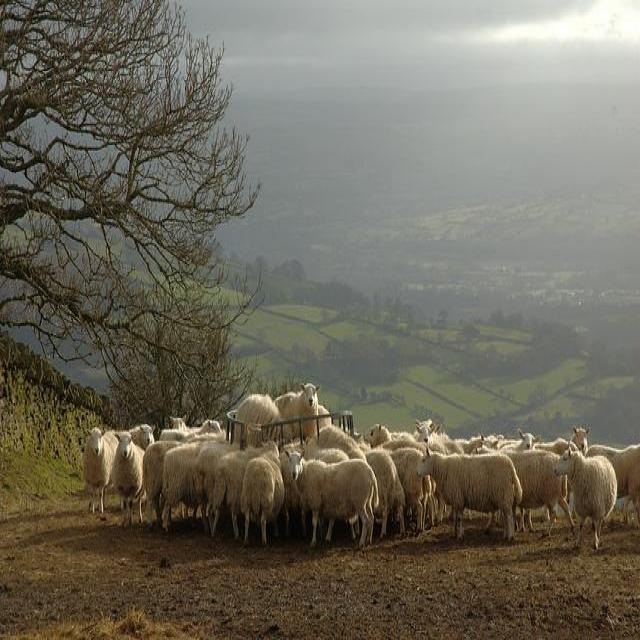Sheep: (129, 400, 595, 540), (418, 450, 523, 545), (286, 448, 379, 548), (497, 450, 575, 539), (359, 444, 431, 534), (554, 448, 618, 545), (241, 441, 285, 549), (210, 447, 261, 540), (587, 444, 639, 530), (143, 441, 186, 530), (161, 444, 203, 533), (366, 447, 406, 537), (111, 433, 147, 527), (235, 394, 285, 456), (84, 428, 119, 514), (274, 386, 320, 444)
